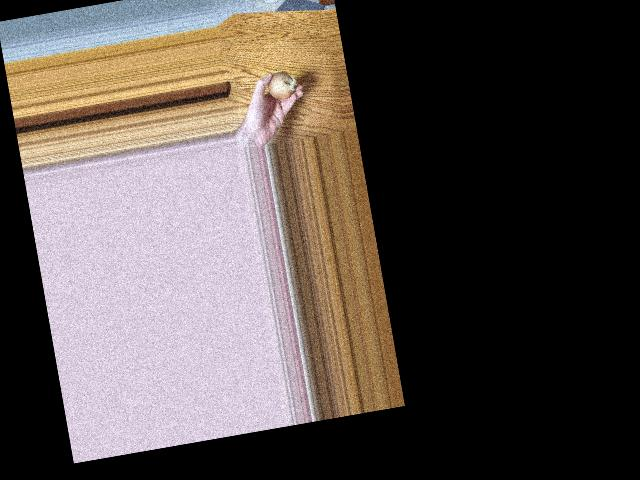onion: (265, 70, 295, 103)
